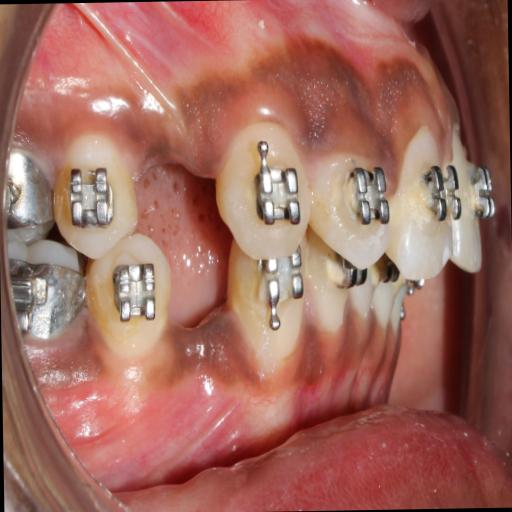correct_brace: (254, 156, 306, 227), (424, 154, 463, 229), (346, 162, 388, 228)
incorrect_brace: (309, 129, 389, 278)
